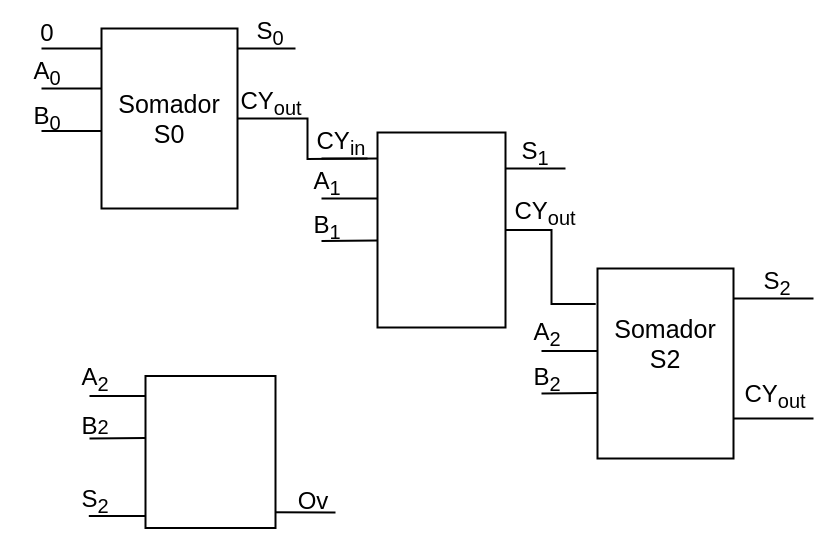
Some shapes in this 832 by 546 pixel diagram are drawn without their labels. Each missing label, with the centre of its shape:
Overflow: point (210, 451)
Somador S1: point (441, 229)
